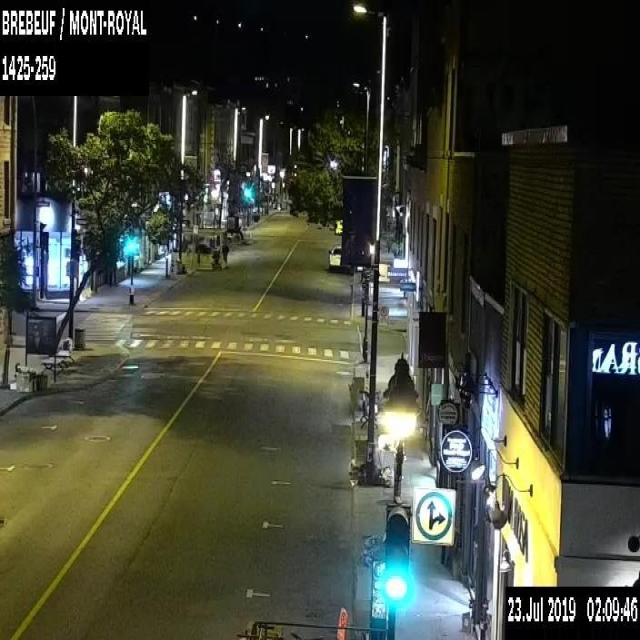vehicle: (326, 243, 356, 273)
